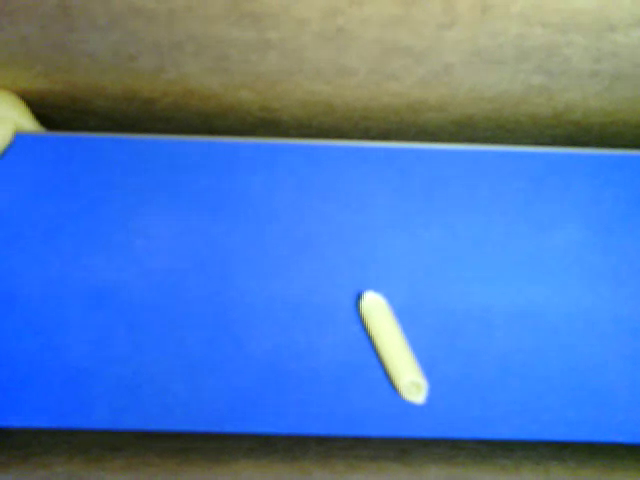penne: (354, 283, 430, 407)
shell: (1, 87, 51, 130)
